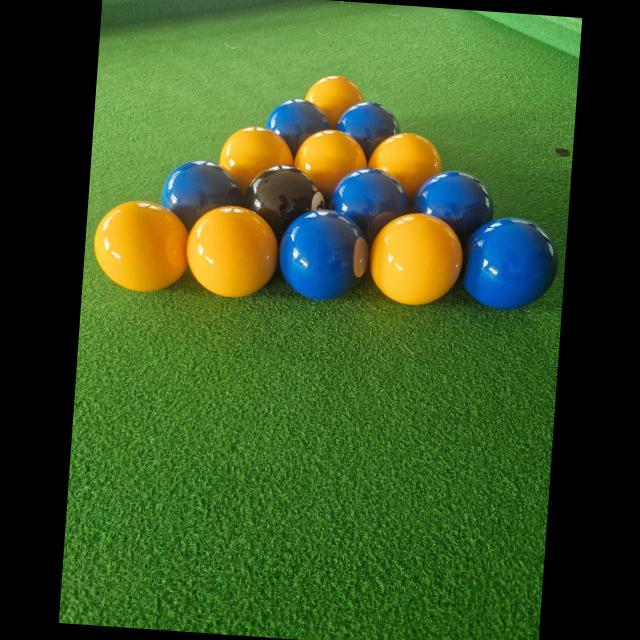Ball: (459, 214, 560, 312), (90, 198, 192, 294), (184, 202, 282, 301), (367, 210, 464, 308), (274, 206, 370, 304), (242, 162, 328, 248), (323, 164, 411, 246), (408, 169, 496, 247), (160, 157, 243, 238), (361, 131, 445, 204), (287, 126, 368, 200), (219, 124, 293, 198), (264, 96, 331, 160), (336, 100, 400, 160), (300, 72, 364, 131)
